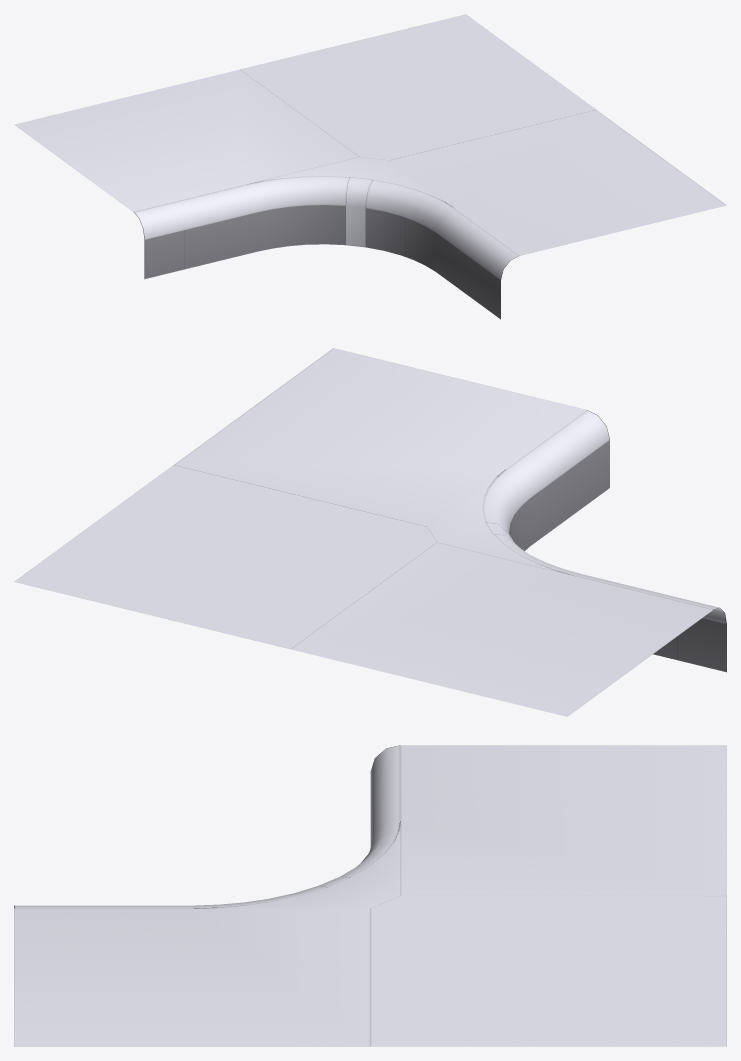
File: Roof_Angle_Smal_01.FBX
The picture shows the model from 3 angles, top to bottom: view 1: azimuth 30°, elevation 25°; view 2: azimuth 150°, elevation 25°; view 3: azimuth 270°, elevation 25°; orthographic projection. The views are drawn at different scales.
Visible parts, largest first — view 1: Roof_Angle_Smal_01; view 2: Roof_Angle_Smal_01; view 3: Roof_Angle_Smal_01.
Boxes of the visible parts, left/top/right/bottom form: Roof_Angle_Smal_01: left=14, top=14, right=726, bottom=319; Roof_Angle_Smal_01: left=14, top=348, right=726, bottom=716; Roof_Angle_Smal_01: left=14, top=745, right=726, bottom=1046.
Size of the model in its own units: 6 by 0.75 by 6.
1 material, 1 textured.
